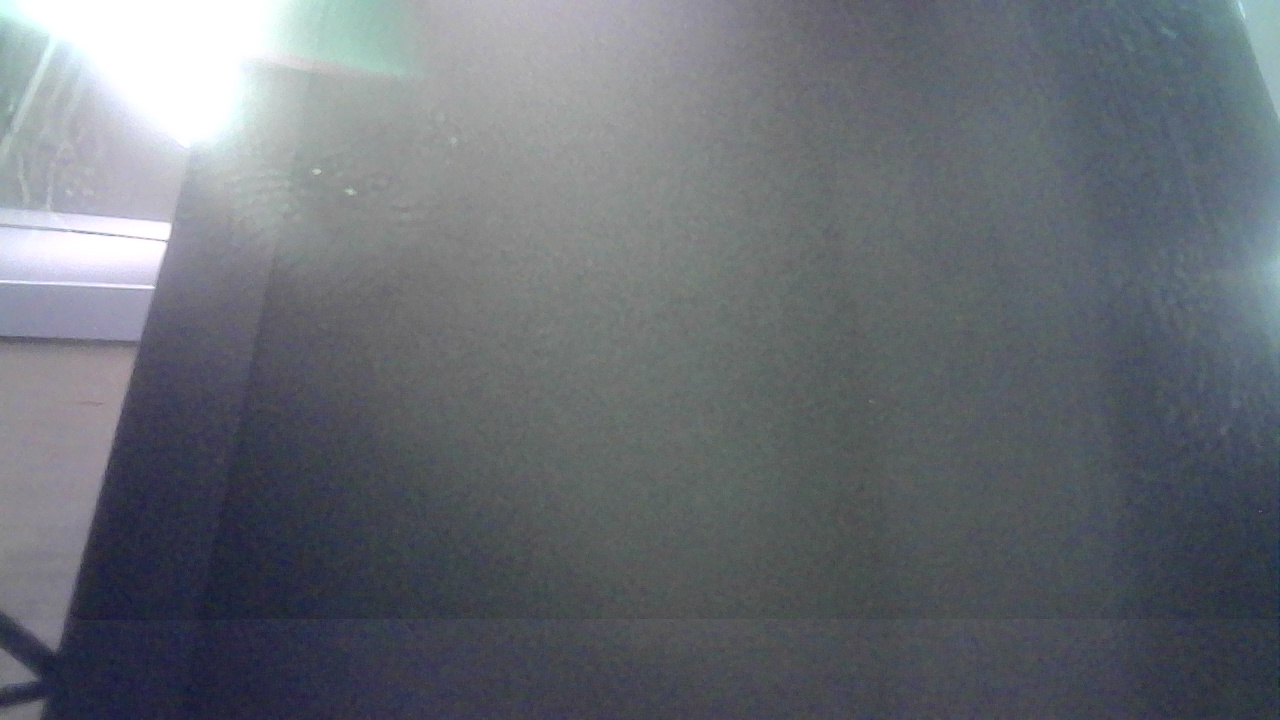Plastic_Recycling: (706, 155, 1254, 654)
